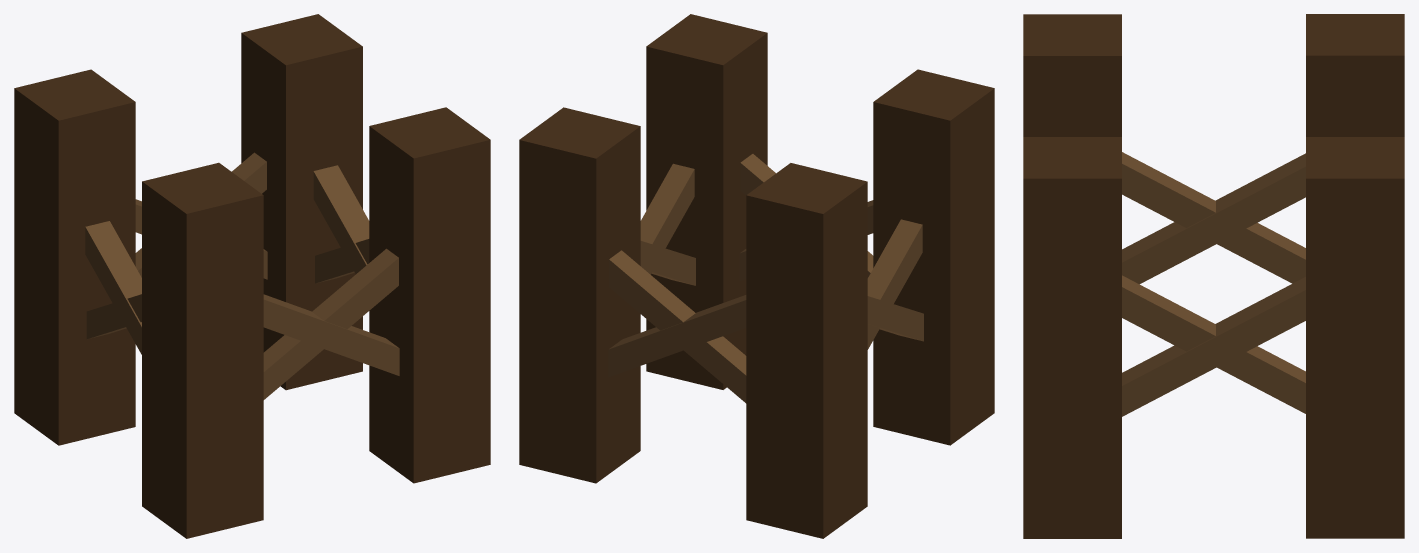
The model's file is foundation.fbx.
3 views of the same model, side by side, from view 1: azimuth 30°, elevation 25°; view 2: azimuth 150°, elevation 25°; view 3: azimuth 270°, elevation 25° (orthographic). The views are drawn at different scales.
Visible parts, largest first — view 1: Cube.007; view 2: Cube.007; view 3: Cube.007.
Boxes of the visible parts, box(x1,y1,x2,y2) form: Cube.007: box(14, 14, 490, 538); Cube.007: box(519, 14, 994, 538); Cube.007: box(1023, 14, 1404, 538).
Bounding box in the file's own units: 791 × 807 × 774.
